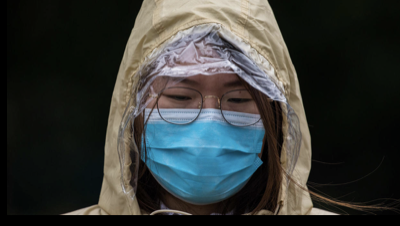with_mask: (138, 75, 266, 205)
